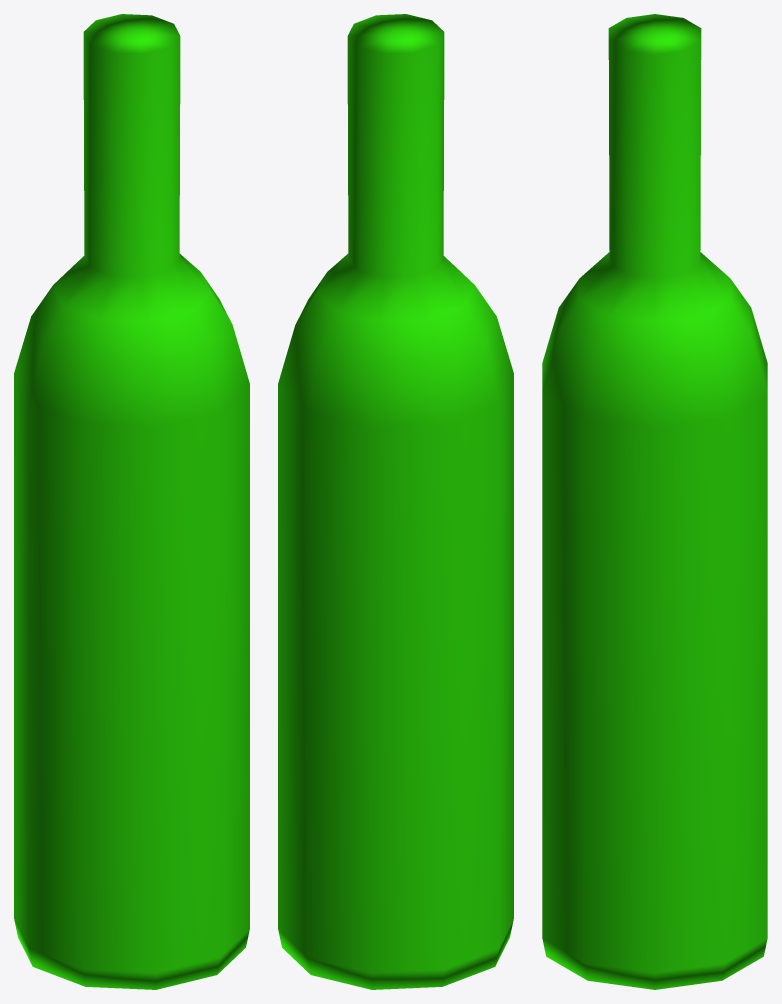
Rendered from Bottle_Wine_02_Lod0.fbx.
3 renders of one model, left to right at view 1: azimuth 30°, elevation 25°; view 2: azimuth 150°, elevation 25°; view 3: azimuth 270°, elevation 25°, orthographic.
Visible parts, largest first — view 1: Bottle_Wine_02_Lod0; view 2: Bottle_Wine_02_Lod0; view 3: Bottle_Wine_02_Lod0.
Part boxes in pixels (x1,y1,x2,y2): Bottle_Wine_02_Lod0: (14, 14, 249, 989); Bottle_Wine_02_Lod0: (278, 14, 513, 989); Bottle_Wine_02_Lod0: (542, 14, 767, 989).
Bounding box in the file's own units: 6.91 × 29.24 × 6.57.
